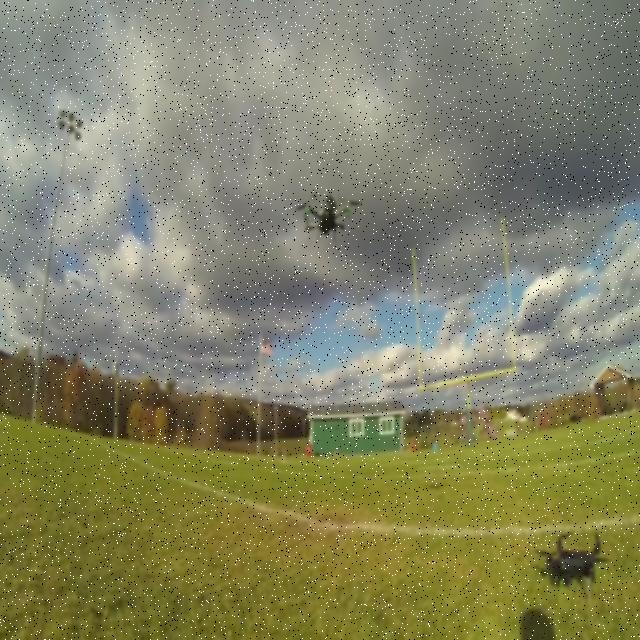UAV: (533, 532, 611, 606), (294, 193, 362, 247)
